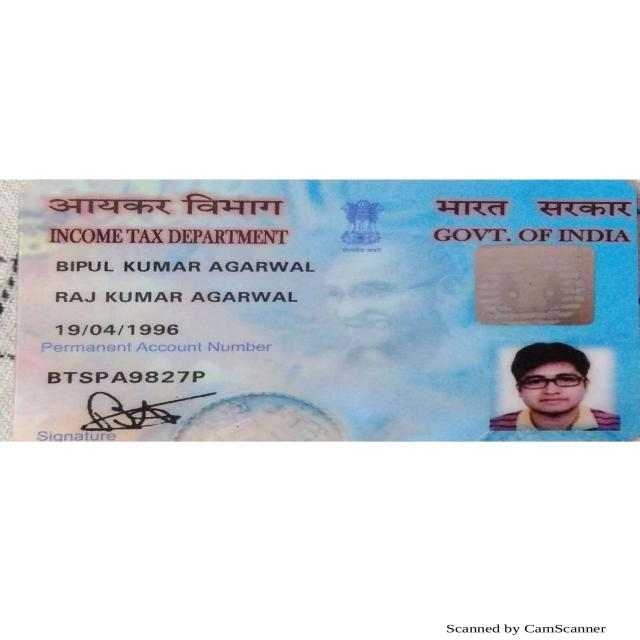pan_card: (23, 179, 639, 441)
